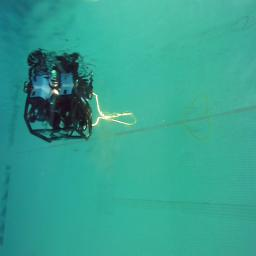front: (22, 85, 94, 143)
